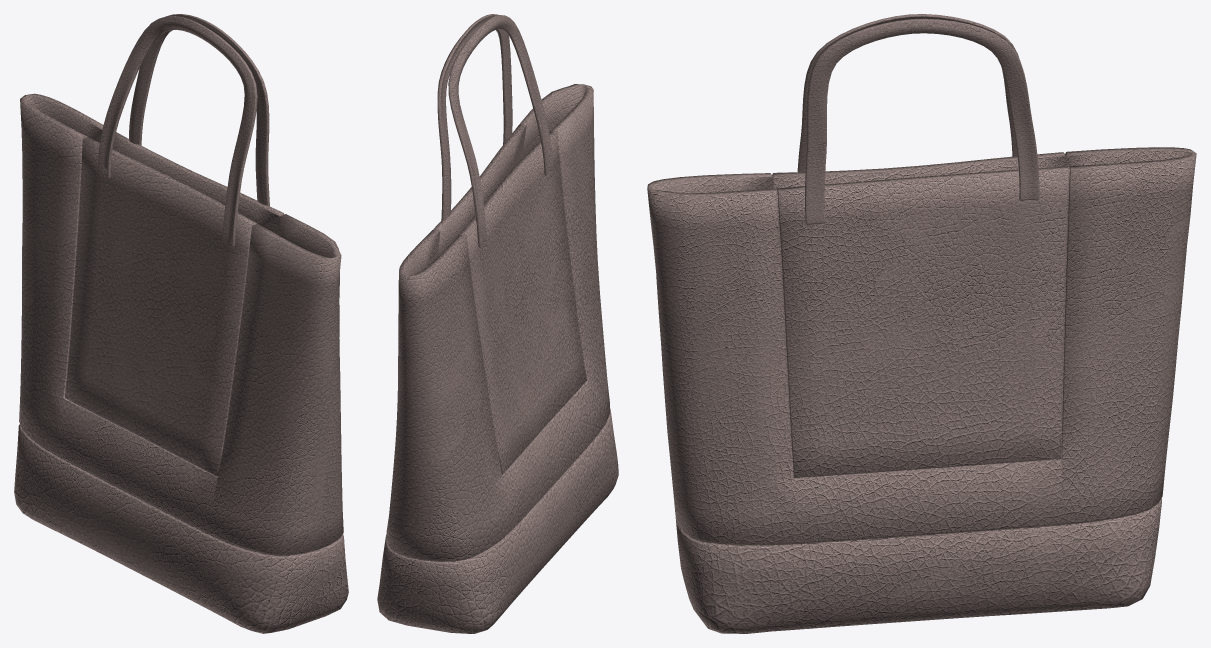
The model's file is w5-shelf-bag-set_14_044.glb.
The picture shows the model from 3 angles, left to right: view 1: azimuth 30°, elevation 25°; view 2: azimuth 150°, elevation 25°; view 3: azimuth 270°, elevation 25°; orthographic projection. The views are drawn at different scales.
Visible parts, largest first — view 1: Shelf_set_14_044; view 2: Shelf_set_14_044; view 3: Shelf_set_14_044.
Part boxes in pixels (x1,y1,x2,y2): Shelf_set_14_044: [14, 14, 348, 633]; Shelf_set_14_044: [377, 14, 618, 633]; Shelf_set_14_044: [647, 14, 1196, 633].
Size of the model in its own units: 0.152 by 0.4945 by 0.413.
Materials: 1 (1 with a texture image).
